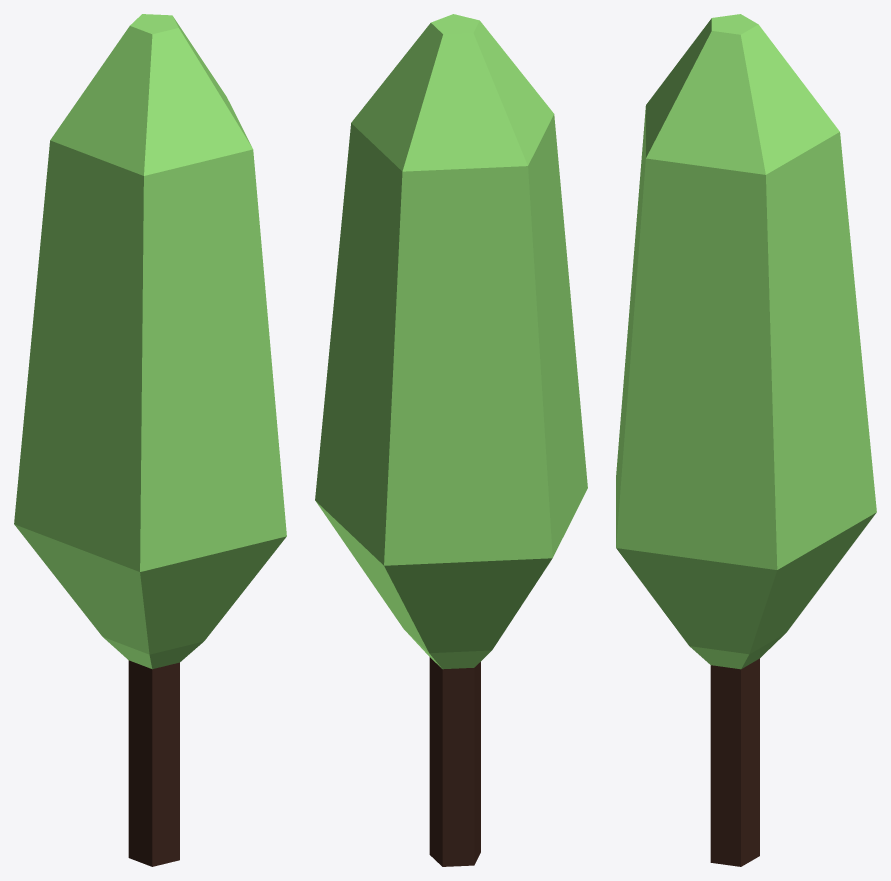
The model's file is TreePoplar.fbx.
3 renders of one model, left to right at view 1: azimuth 30°, elevation 25°; view 2: azimuth 150°, elevation 25°; view 3: azimuth 270°, elevation 25°, orthographic.
Parts seen in each view (by area): view 1: Cylinder; view 2: Cylinder; view 3: Cylinder.
Boxes of the visible parts, left/top/right/bottom form: Cylinder: left=14, top=14, right=286, bottom=866; Cylinder: left=315, top=14, right=587, bottom=866; Cylinder: left=616, top=14, right=876, bottom=866.
Size of the model in its own units: 468 by 1566 by 445.
